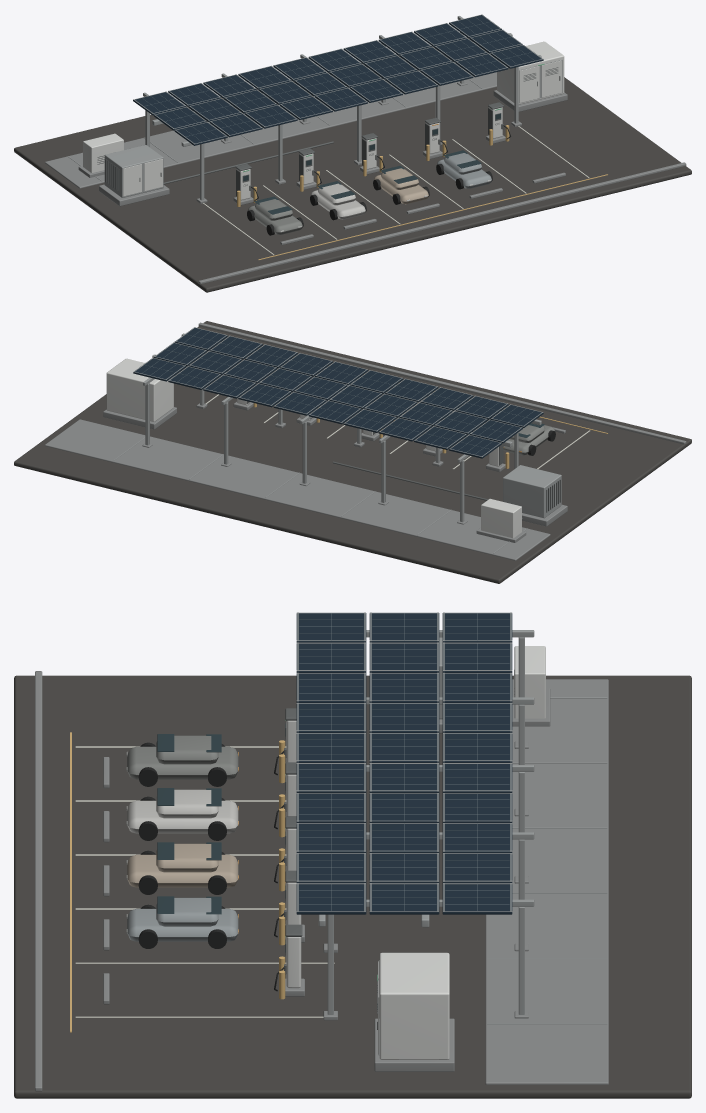
File: ev-microgrid-site.glb
3 views of the same model, one above another, from view 1: azimuth 30°, elevation 25°; view 2: azimuth 150°, elevation 25°; view 3: azimuth 270°, elevation 25° (orthographic). The views are drawn at different scales.
Visible parts, largest first — view 1: Ground / paved site, Site / concrete service apron, Site / front curb, TX-01 / transformer enclosure, BESS-01 / enclosure, GRID-01 / switchgear, PV-01-01 / framed module, PV-08-01 / framed module, PV-10-01 / framed module, PV-03-01 / framed module, PV-07-01 / framed module, PV-05-01 / framed module (+39 smaller); view 2: Ground / paved site, Site / concrete service apron, BESS-01 / enclosure, TX-01 / transformer enclosure, Site / front curb, GRID-01 / switchgear, PV-04-03 / framed module, PV-06-03 / framed module, PV-01-03 / framed module, PV-02-03 / framed module, PV-05-03 / framed module, PV-09-03 / framed module (+27 smaller); view 3: Ground / paved site, Site / concrete service apron, BESS-01 / enclosure, Site / front curb, EV-0217 / bay 4 / chassis, EV-0216 / bay 3 / chassis, EV-0215 / bay 2 / chassis, EV-0214 / bay 1 / chassis, PV-10-01 / framed module, PV-10-02 / framed module, PV-10-03 / framed module, PV-07-03 / framed module (+34 smaller).
Boxes of the visible parts, x1=… form: Ground / paved site: x1=14, y1=37, x2=691, y2=292; Site / concrete service apron: x1=45, y1=53, x2=496, y2=188; Site / front curb: x1=198, y1=162, x2=686, y2=284; TX-01 / transformer enclosure: x1=104, y1=145, x2=163, y2=197; BESS-01 / enclosure: x1=497, y1=41, x2=564, y2=104; GRID-01 / switchgear: x1=83, y1=133, x2=123, y2=172; PV-01-01 / framed module: x1=174, y1=122, x2=227, y2=145; PV-08-01 / framed module: x1=420, y1=62, x2=473, y2=85; PV-10-01 / framed module: x1=490, y1=45, x2=543, y2=68; PV-03-01 / framed module: x1=244, y1=105, x2=297, y2=128; PV-07-01 / framed module: x1=385, y1=71, x2=438, y2=94; PV-05-01 / framed module: x1=315, y1=88, x2=367, y2=111; Ground / paved site: x1=14, y1=321, x2=691, y2=583; Site / concrete service apron: x1=45, y1=419, x2=550, y2=560; BESS-01 / enclosure: x1=106, y1=358, x2=173, y2=421; TX-01 / transformer enclosure: x1=503, y1=465, x2=561, y2=518; Site / front curb: x1=198, y1=322, x2=686, y2=444; GRID-01 / switchgear: x1=481, y1=498, x2=521, y2=538; PV-04-03 / framed module: x1=343, y1=409, x2=396, y2=432; PV-06-03 / framed module: x1=273, y1=392, x2=326, y2=415; PV-01-03 / framed module: x1=449, y1=435, x2=501, y2=458; PV-02-03 / framed module: x1=414, y1=426, x2=466, y2=449; PV-05-03 / framed module: x1=308, y1=401, x2=361, y2=424; PV-09-03 / framed module: x1=168, y1=367, x2=221, y2=389; Ground / paved site: x1=14, y1=675, x2=691, y2=1098; Site / concrete service apron: x1=485, y1=679, x2=608, y2=1084; BESS-01 / enclosure: x1=379, y1=952, x2=449, y2=1059; Site / front curb: x1=35, y1=671, x2=42, y2=1091; EV-0217 / bay 4 / chassis: x1=127, y1=908, x2=238, y2=941; EV-0216 / bay 3 / chassis: x1=127, y1=854, x2=238, y2=887; EV-0215 / bay 2 / chassis: x1=127, y1=800, x2=238, y2=833; EV-0214 / bay 1 / chassis: x1=127, y1=746, x2=238, y2=779; PV-10-01 / framed module: x1=296, y1=884, x2=366, y2=914; PV-10-02 / framed module: x1=369, y1=884, x2=439, y2=914; PV-10-03 / framed module: x1=442, y1=884, x2=512, y2=914; PV-07-03 / framed module: x1=442, y1=793, x2=512, y2=823.
Size of the model in its own units: 32 by 4.63 by 22.
